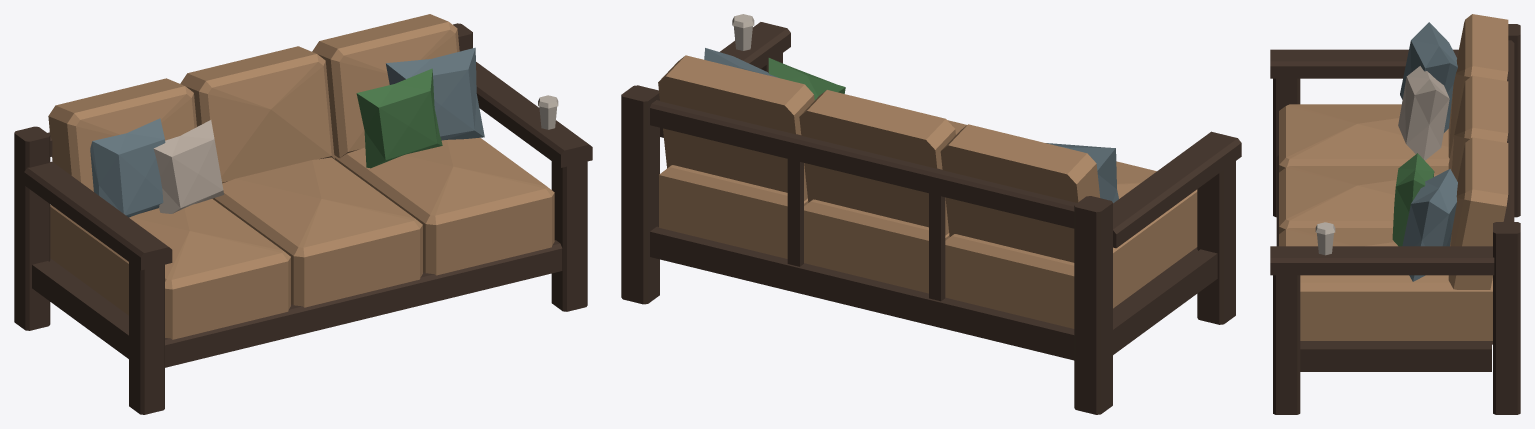
File: sofa.glb
3 renders of one model, left to right at view 1: azimuth 30°, elevation 25°; view 2: azimuth 150°, elevation 25°; view 3: azimuth 270°, elevation 25°, orthographic. The views are drawn at different scales.
Visible parts, largest first — view 1: sofa-body, scatter-r-mesh, scatter-l-mesh, dressing-mesh; view 2: sofa-body, scatter-r-mesh, scatter-l-mesh, dressing-mesh; view 3: sofa-body, scatter-l-mesh, scatter-r-mesh, dressing-mesh.
Boxes of the visible parts, x1,y1,x2,y2 form: sofa-body: [14, 14, 592, 414]; scatter-r-mesh: [356, 47, 484, 168]; scatter-l-mesh: [90, 118, 223, 217]; dressing-mesh: [538, 95, 558, 129]; sofa-body: [621, 22, 1241, 414]; scatter-r-mesh: [704, 48, 845, 100]; scatter-l-mesh: [1046, 143, 1118, 203]; dressing-mesh: [732, 14, 754, 50]; sofa-body: [1270, 14, 1520, 414]; scatter-l-mesh: [1398, 22, 1457, 160]; scatter-r-mesh: [1392, 153, 1457, 281]; dressing-mesh: [1315, 222, 1335, 255].
Bounding box in the file's own units: 2 × 0.9199 × 1.
